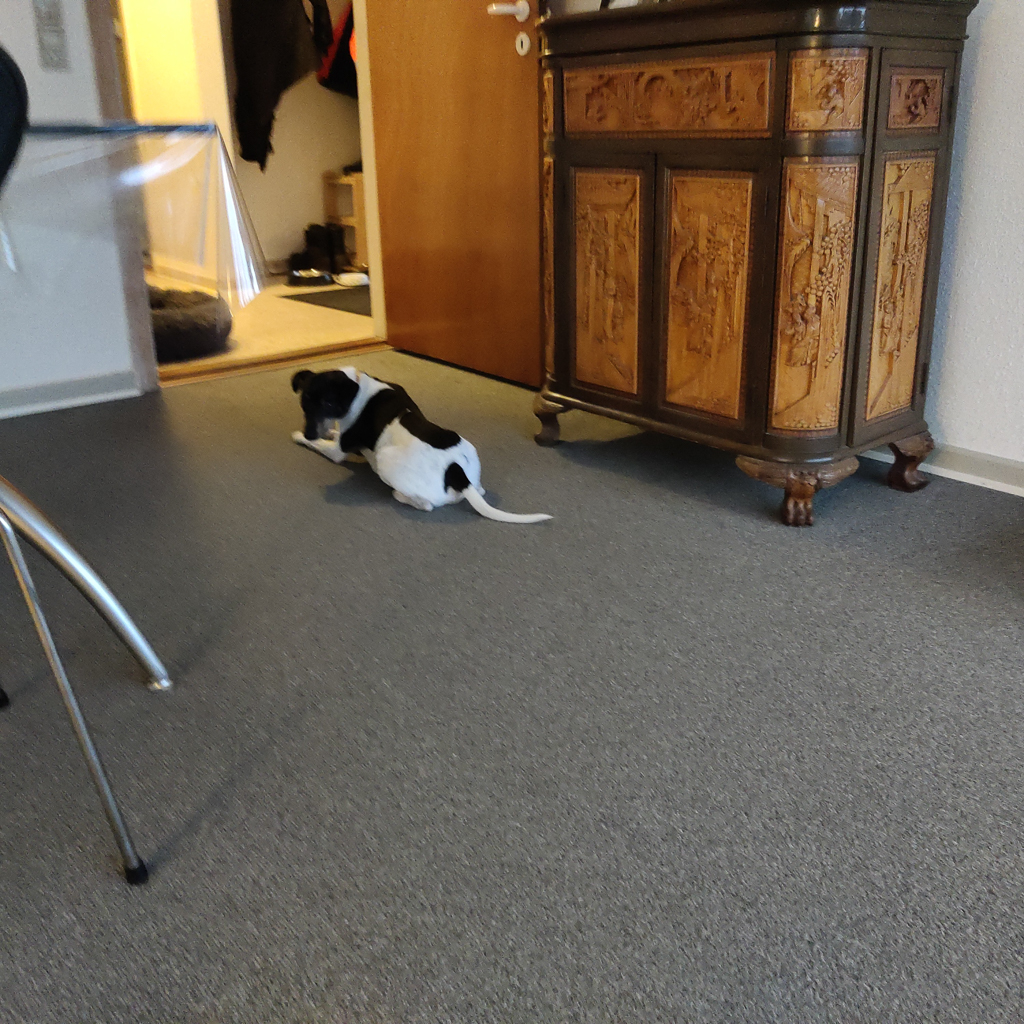Dog: (276, 352, 565, 532)
